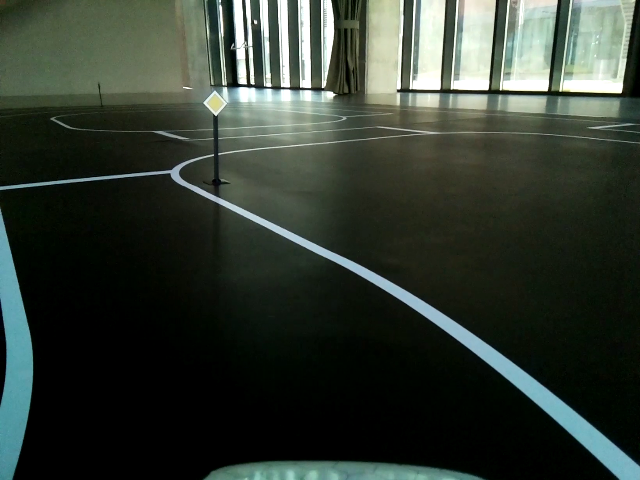priority: (205, 89, 227, 119)
